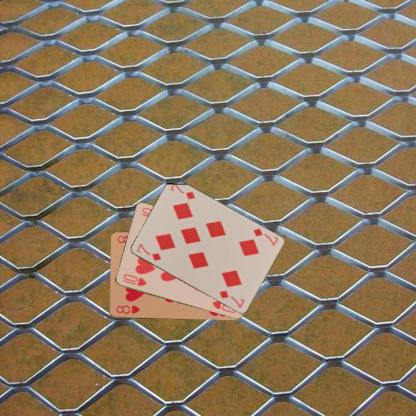10h: (121, 272, 148, 288)
7d: (133, 241, 162, 262), (250, 226, 279, 247)
8h: (113, 303, 141, 315)
